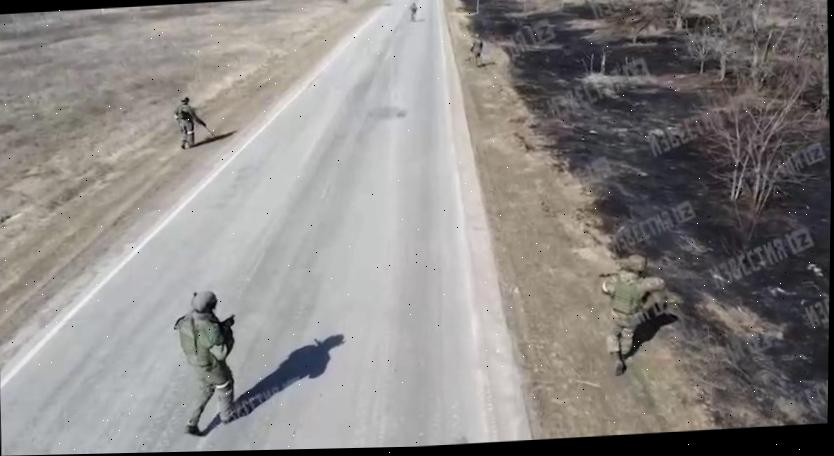person: (171, 288, 241, 439), (595, 253, 668, 377), (171, 95, 206, 152), (469, 33, 483, 68), (408, 1, 418, 23)
